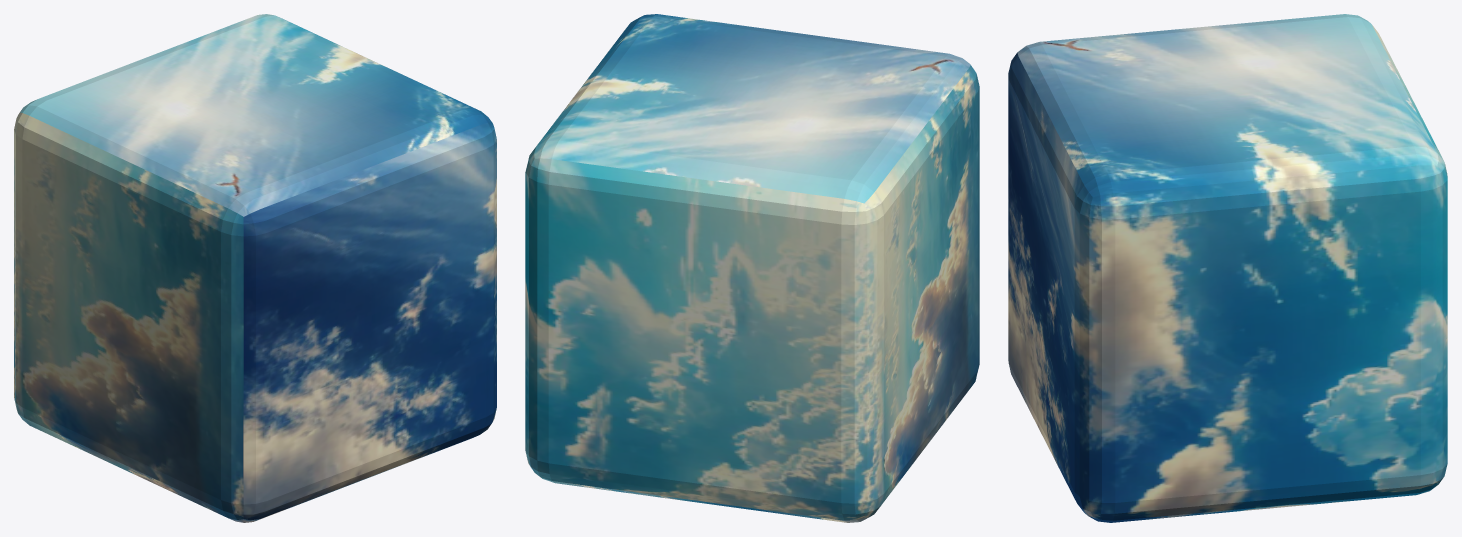
File: 010_Candy_Box_02.fbx
3 views of the same model, side by side, from view 1: azimuth 30°, elevation 25°; view 2: azimuth 150°, elevation 25°; view 3: azimuth 270°, elevation 25° (orthographic). The views are drawn at different scales.
Visible parts, largest first — view 1: Cube.014; view 2: Cube.014; view 3: Cube.014.
Part boxes in pixels (bbox=[...]): Cube.014: bbox=[14, 14, 496, 522]; Cube.014: bbox=[525, 14, 979, 522]; Cube.014: bbox=[1008, 14, 1447, 522].
Bounding box in the file's own units: 130 × 113 × 130.
